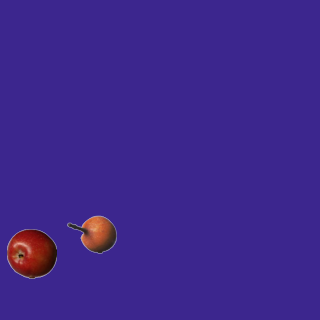Apple Braeburn: (6, 228, 56, 278)
Granadilla: (66, 209, 116, 259)
